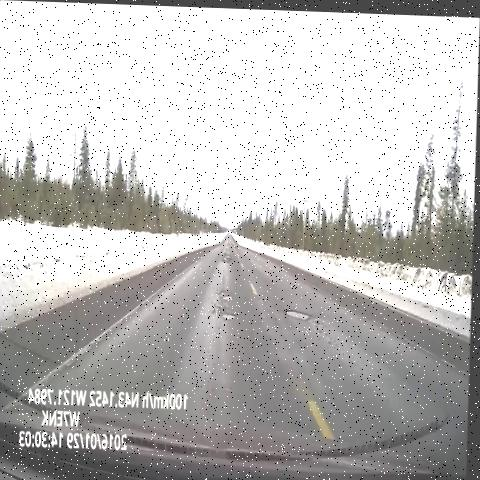pothole: (285, 299, 318, 324), (218, 246, 239, 269), (219, 306, 243, 326), (220, 285, 241, 304)
